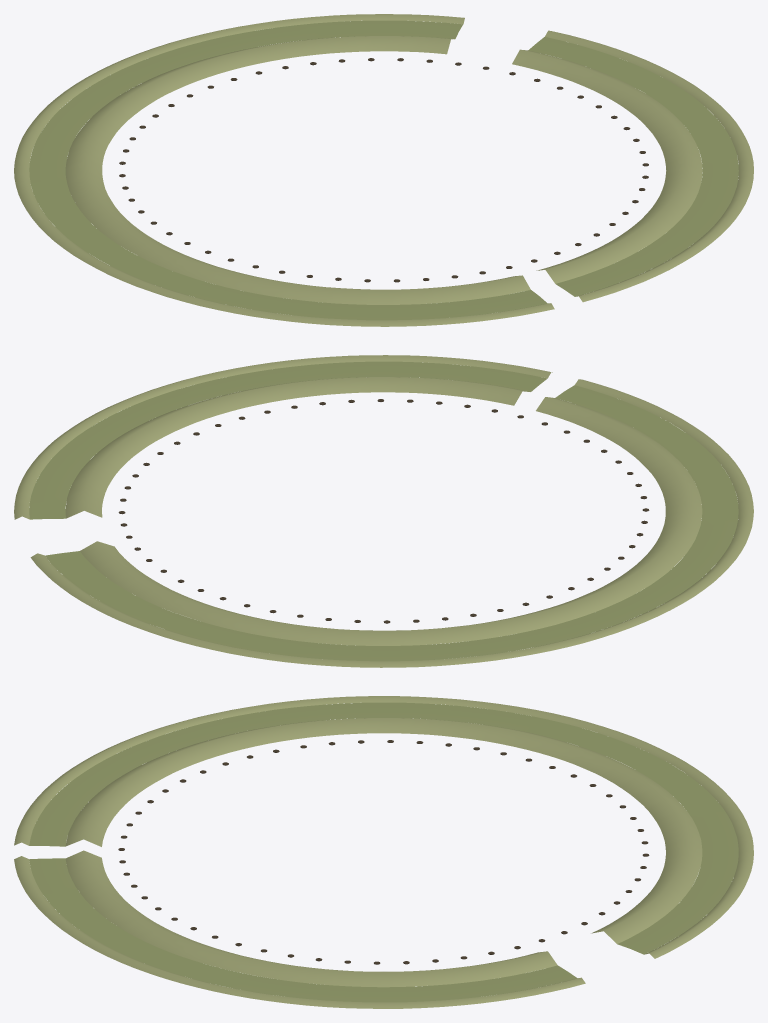
File: stonehenge-site-b20.glb
The picture shows the model from 3 angles, top to bottom: view 1: azimuth 30°, elevation 25°; view 2: azimuth 150°, elevation 25°; view 3: azimuth 270°, elevation 25°; orthographic projection.
Size of the model in its own units: 122 by 1.39 by 122.
